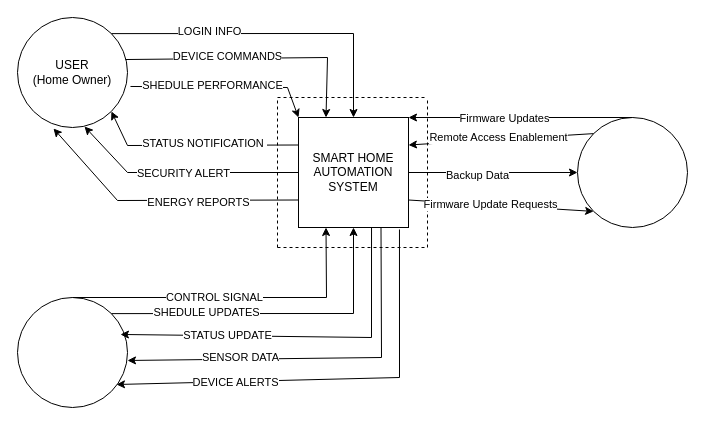
The diagram is 705 pixels wide and 425 high, and some of its shapes have lost their labels. Each missing label, with the box of its shape:
SERVER: (576, 116, 688, 228)
SMART DEVICES: (16, 296, 128, 408)
